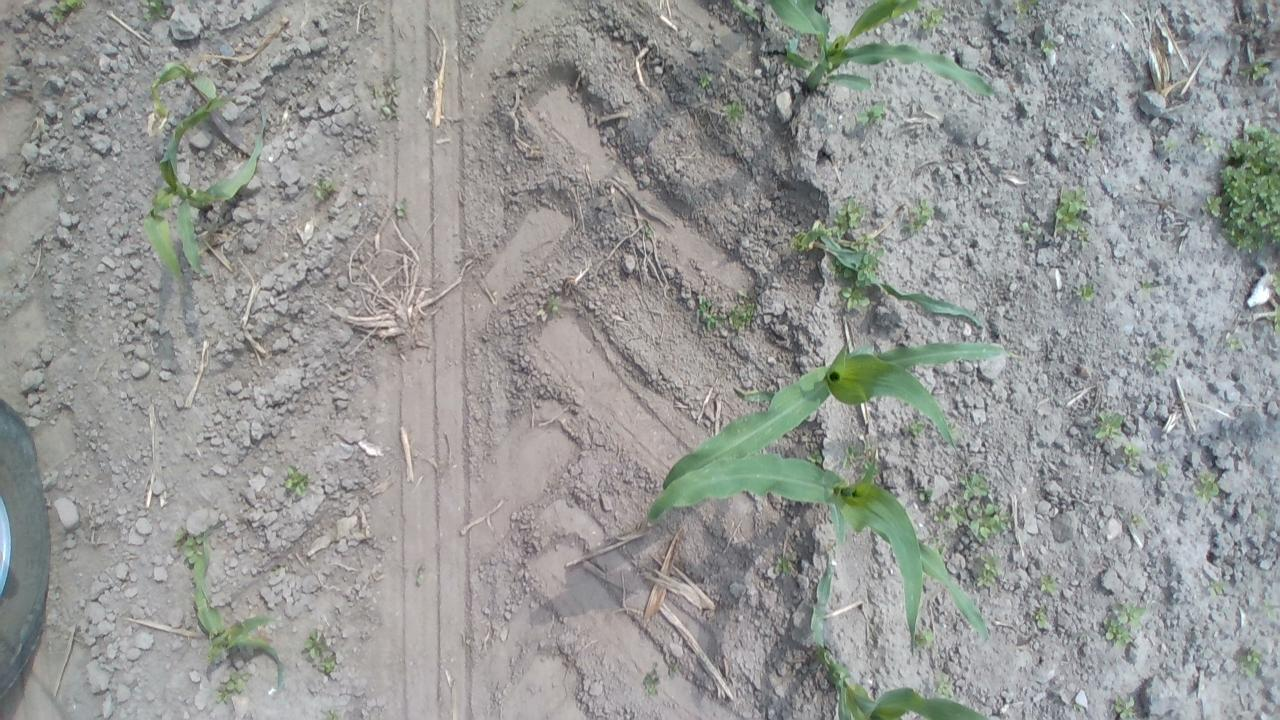Maize: (646, 463, 1000, 650), (662, 331, 1014, 494), (812, 565, 998, 720), (134, 110, 286, 290), (762, 1, 1004, 104), (798, 228, 989, 336), (176, 533, 294, 694), (138, 66, 224, 116)
Weeds: (1203, 124, 1280, 258), (932, 470, 1018, 548), (1100, 600, 1144, 656), (692, 295, 758, 332), (1049, 184, 1089, 241), (834, 270, 877, 317), (372, 65, 407, 119), (173, 526, 214, 570), (852, 100, 896, 139), (304, 628, 336, 681), (212, 672, 254, 711), (904, 194, 944, 234), (282, 462, 320, 501), (828, 200, 866, 239), (844, 442, 880, 482), (974, 556, 1010, 592), (1089, 409, 1126, 441), (912, 4, 949, 36), (1186, 469, 1222, 501), (1143, 343, 1174, 378), (718, 93, 753, 124), (44, 1, 86, 24), (768, 551, 798, 583), (1244, 57, 1274, 89), (1234, 645, 1266, 675), (309, 176, 339, 206), (638, 668, 668, 698), (1116, 439, 1146, 468), (1003, 0, 1044, 21), (130, 1, 170, 22), (1072, 281, 1102, 309), (636, 222, 665, 250), (1034, 34, 1062, 63), (1269, 271, 1280, 342), (923, 676, 953, 701), (1108, 695, 1138, 720), (728, 0, 761, 22), (390, 198, 414, 228), (801, 445, 829, 468), (1134, 276, 1157, 304), (914, 627, 939, 652), (1206, 572, 1228, 600), (696, 66, 719, 91), (1040, 573, 1062, 599), (540, 295, 566, 316), (1076, 130, 1102, 151), (904, 419, 936, 436), (1190, 129, 1214, 151), (1126, 514, 1149, 536), (318, 701, 344, 720), (919, 485, 940, 508), (1032, 610, 1050, 634), (1152, 460, 1172, 481), (1218, 328, 1236, 350), (1164, 134, 1181, 157), (1018, 218, 1034, 238), (414, 570, 426, 590), (1256, 508, 1270, 523)
